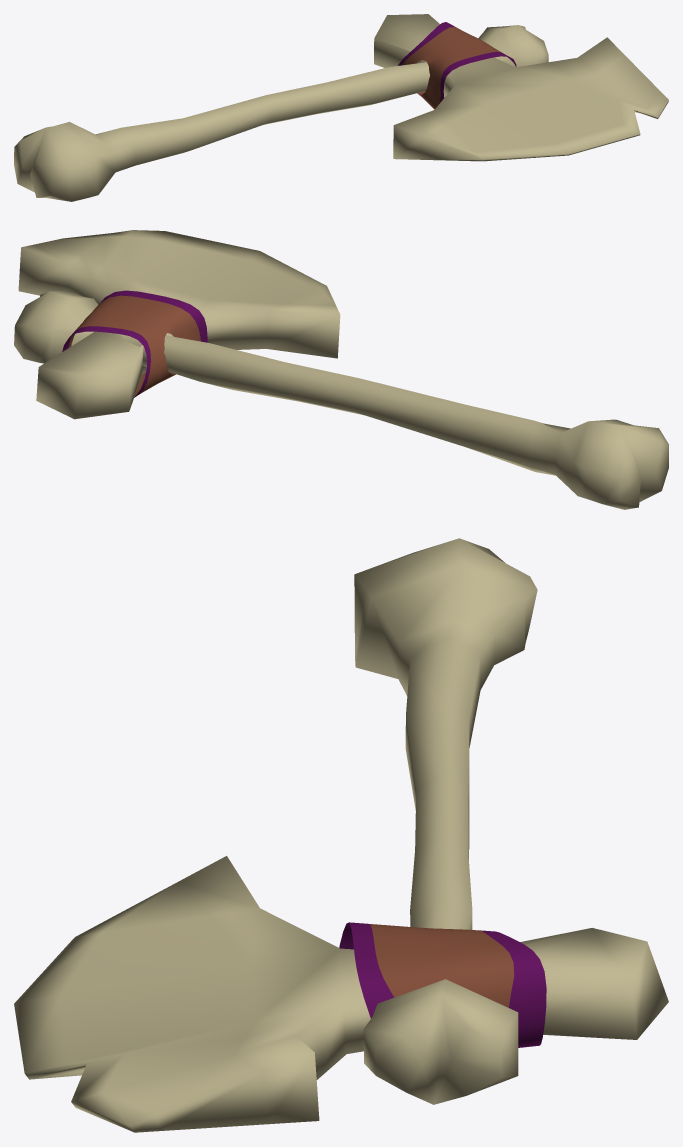
Rendered from boneHatchet.glb.
The picture shows the model from 3 angles, top to bottom: view 1: azimuth 30°, elevation 25°; view 2: azimuth 150°, elevation 25°; view 3: azimuth 270°, elevation 25°; orthographic projection. The views are drawn at different scales.
Parts seen in each view (by area): view 1: Plane, LargeBone, Plane.001; view 2: Plane, LargeBone, Plane.001; view 3: Plane, LargeBone, Plane.001.
Boxes of the visible parts, left/top/right/bottom form: Plane: left=374, top=14, right=668, bottom=161; LargeBone: left=14, top=25, right=548, bottom=201; Plane.001: left=398, top=22, right=516, bottom=109; Plane: left=18, top=230, right=340, bottom=419; LargeBone: left=14, top=291, right=668, bottom=509; Plane.001: left=62, top=290, right=207, bottom=397; Plane: left=14, top=856, right=668, bottom=1132; LargeBone: left=354, top=538, right=537, bottom=1104; Plane.001: left=339, top=922, right=546, bottom=1047.
Bounding box in the file's own units: 0.971 × 0.114 × 0.5076.
